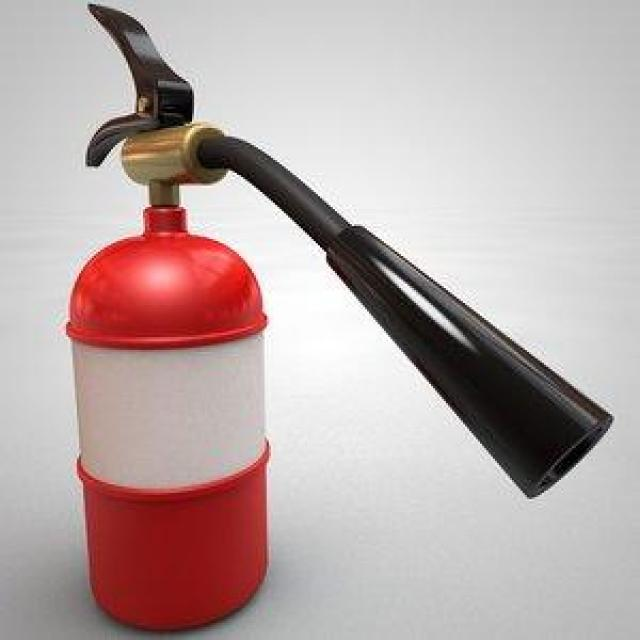fire_extinguisher: (58, 0, 620, 638)
